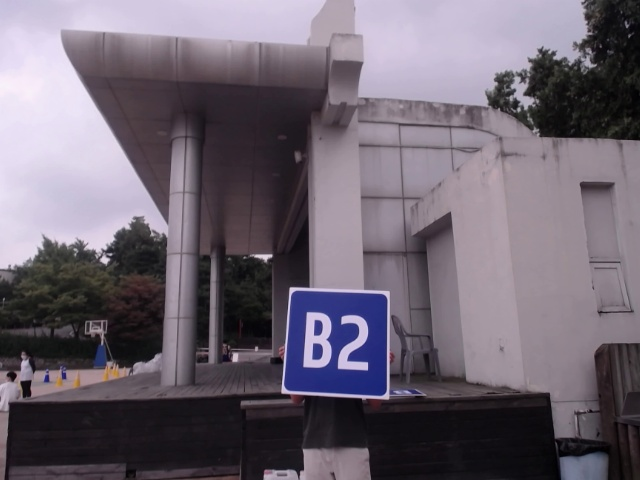delivery_b2: (282, 286, 391, 398)
